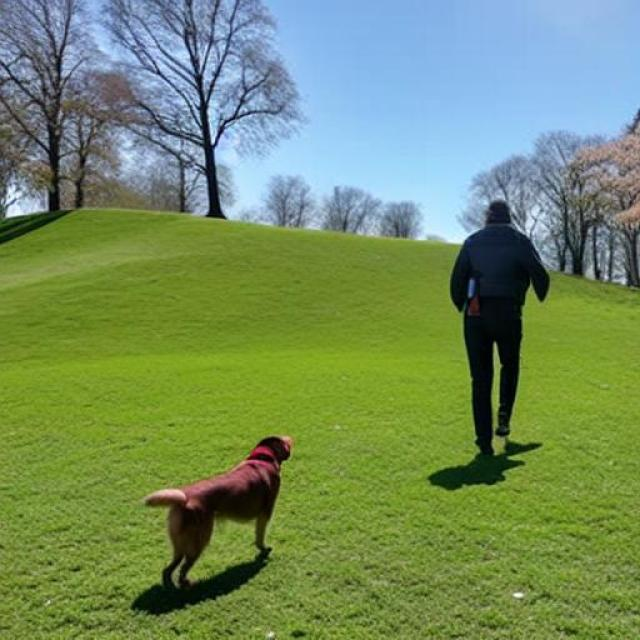Unleashed_Dog: (142, 304, 524, 590)
